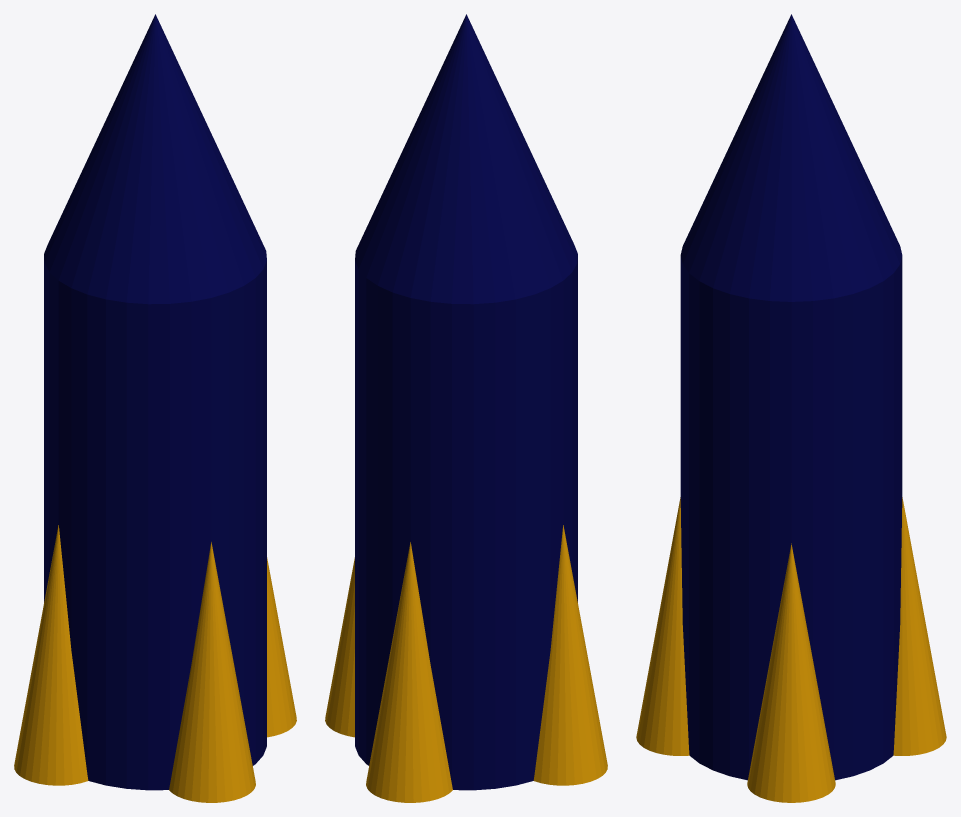
The model's file is rocket.fbx.
3 renders of one model, left to right at view 1: azimuth 30°, elevation 25°; view 2: azimuth 150°, elevation 25°; view 3: azimuth 270°, elevation 25°, orthographic.
Visible parts, largest first — view 1: Cylinder, Cone, Cone.004, Cone.005, Cone.002; view 2: Cylinder, Cone, Cone.003, Cone.005, Cone.002; view 3: Cylinder, Cone, Cone.002, Cone.003, Cone.004.
Part boxes in pixels (x1,y1,x2,y2): Cylinder: [44, 256, 266, 790]; Cone: [44, 14, 266, 304]; Cone.004: [169, 542, 255, 802]; Cone.005: [14, 525, 88, 785]; Cone.002: [267, 557, 296, 737]; Cylinder: [355, 256, 577, 790]; Cone: [355, 14, 577, 304]; Cone.003: [366, 542, 452, 802]; Cone.005: [533, 525, 607, 785]; Cone.002: [325, 557, 354, 737]; Cylinder: [680, 256, 902, 780]; Cone: [680, 14, 902, 301]; Cone.002: [747, 543, 835, 802]; Cone.003: [893, 497, 946, 755]; Cone.004: [636, 497, 689, 755].
Bounding box in the file's own units: 70 × 180 × 70.
